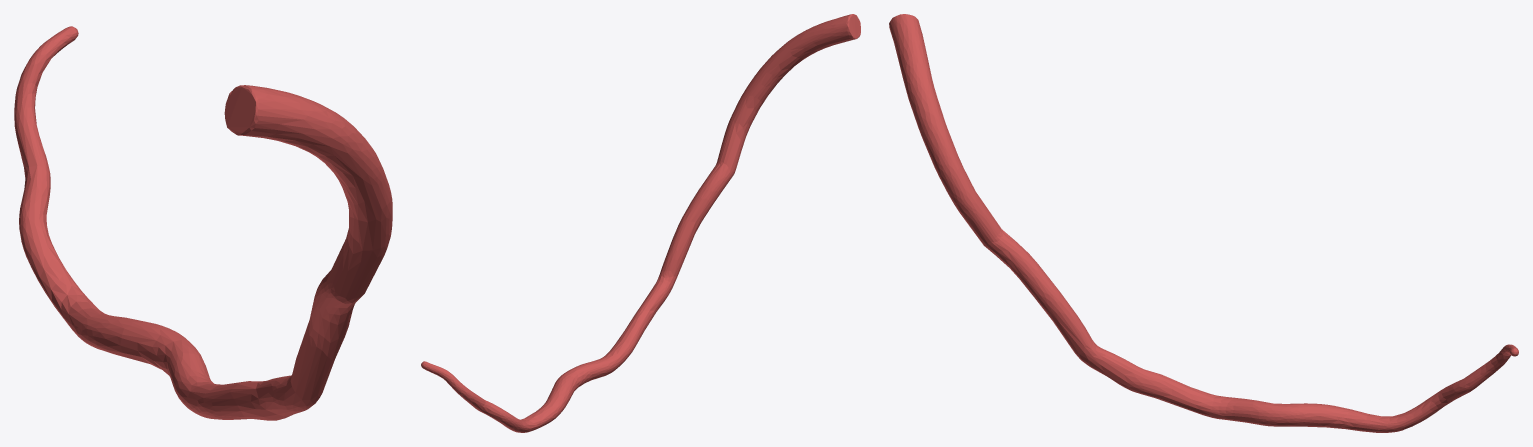
3 renders of one model, left to right at view 1: azimuth 30°, elevation 25°; view 2: azimuth 150°, elevation 25°; view 3: azimuth 270°, elevation 25°, orthographic. The views are drawn at different scales.
Visible parts, largest first — view 1: FJ2631; view 2: FJ2631; view 3: FJ2631.
Part boxes in pixels (x1=…): FJ2631: x1=14, y1=26, x2=392, y2=420; FJ2631: x1=421, y1=14, x2=860, y2=432; FJ2631: x1=889, y1=14, x2=1518, y2=432.
Bounding box in the file's own units: 30.55 × 47.93 × 78.08.
